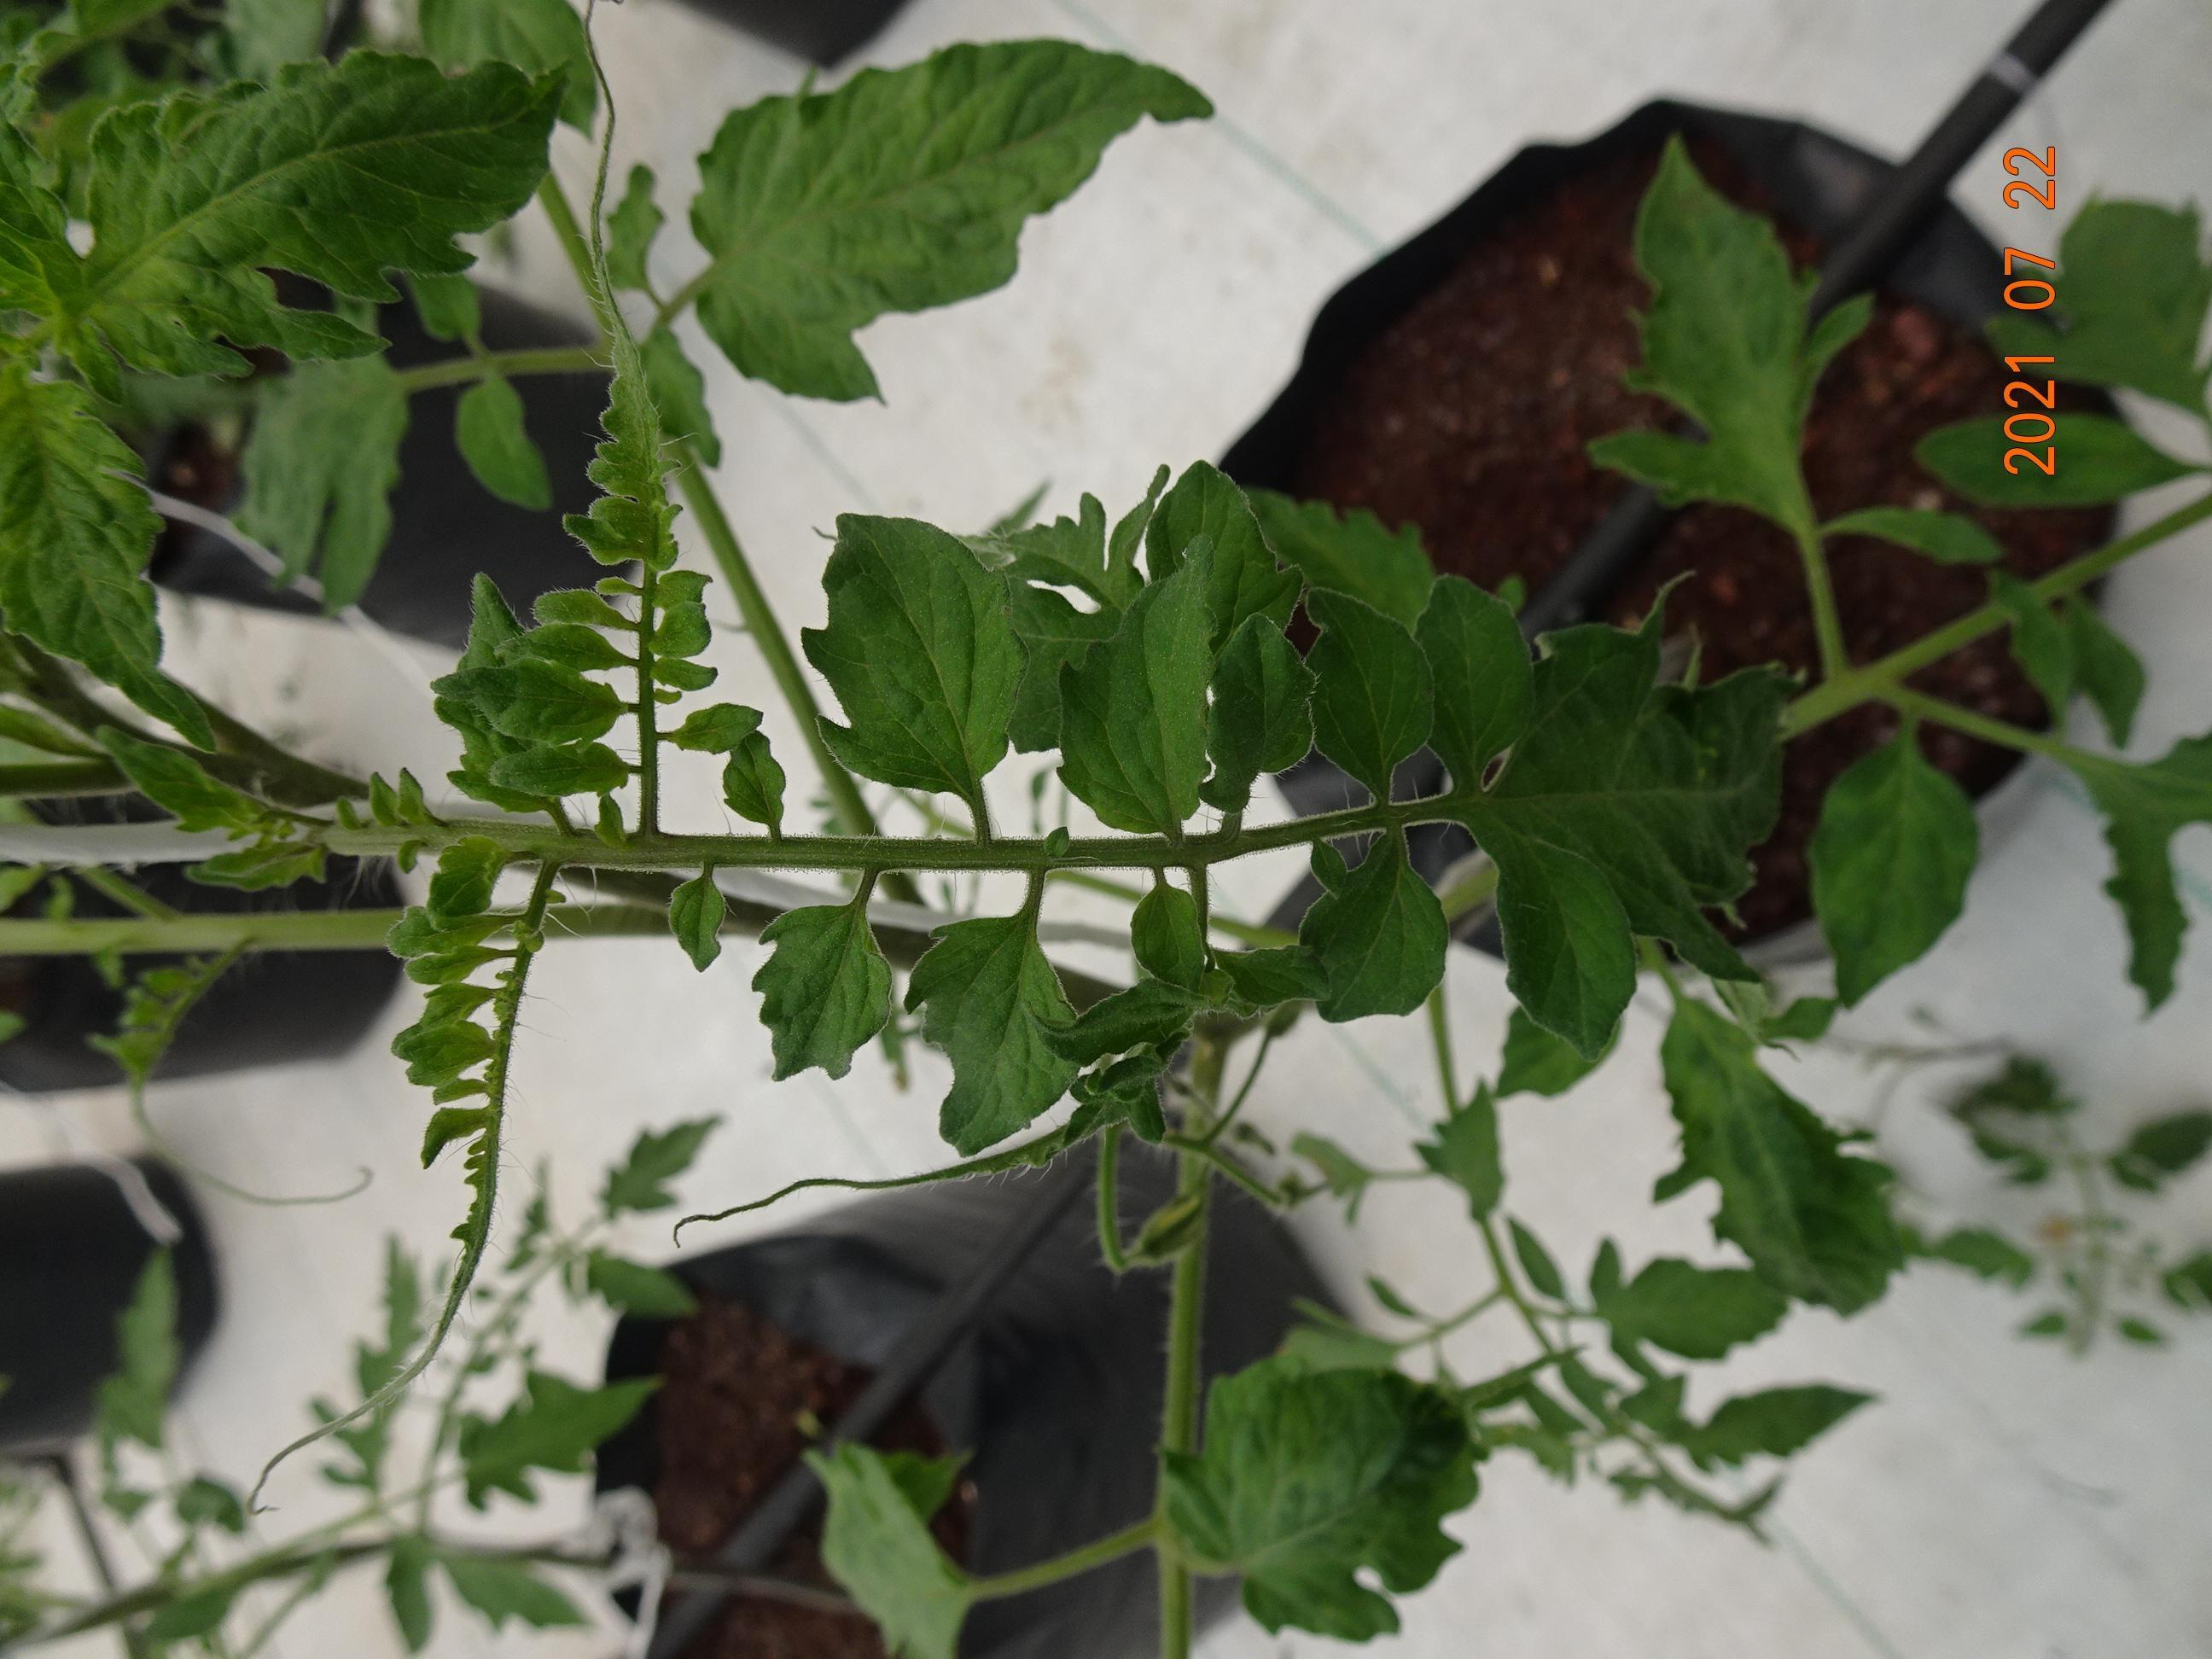Hoja: (803, 514, 1024, 829), (904, 873, 1078, 1155), (1146, 458, 1303, 643), (1301, 826, 1446, 1023), (1305, 592, 1435, 798), (1202, 613, 1317, 812), (428, 659, 639, 746), (1134, 870, 1204, 990), (725, 732, 784, 836), (671, 873, 726, 969), (658, 702, 763, 751)
Hoja rugoso: (82, 52, 557, 376), (1059, 540, 1214, 838), (752, 873, 890, 1080)
Pedunculo: (444, 814, 1329, 870)
